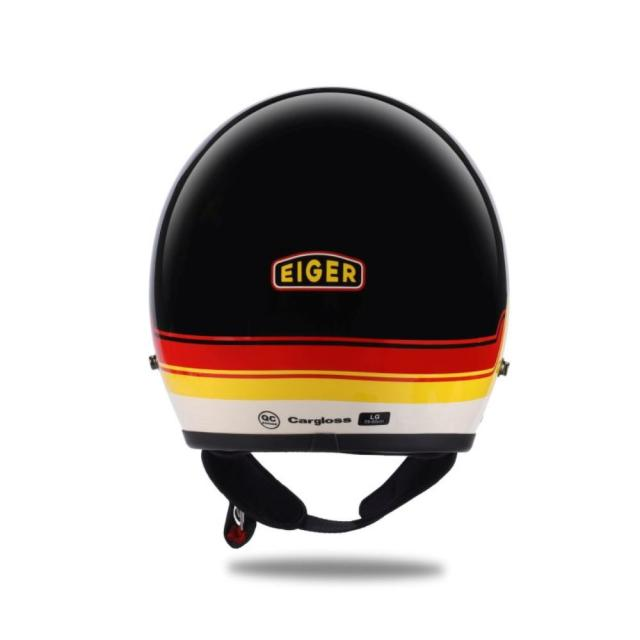Helm: (140, 78, 517, 554)
